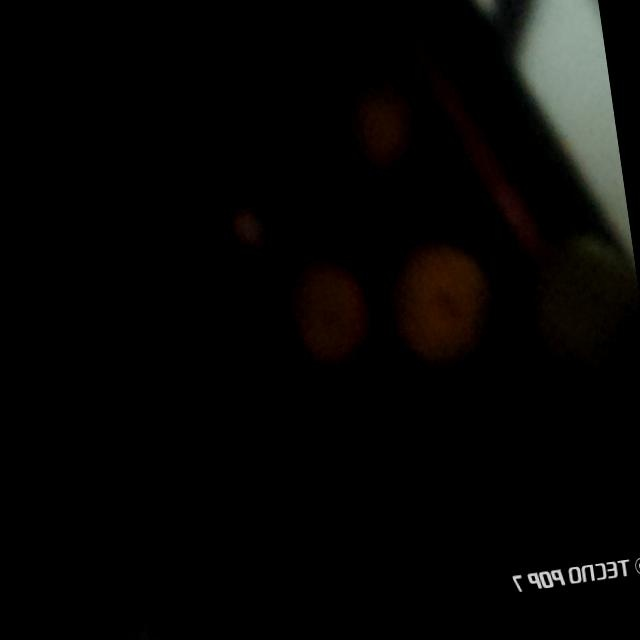agrume: (517, 221, 640, 395), (383, 232, 504, 379), (278, 256, 378, 384), (339, 79, 429, 176)
